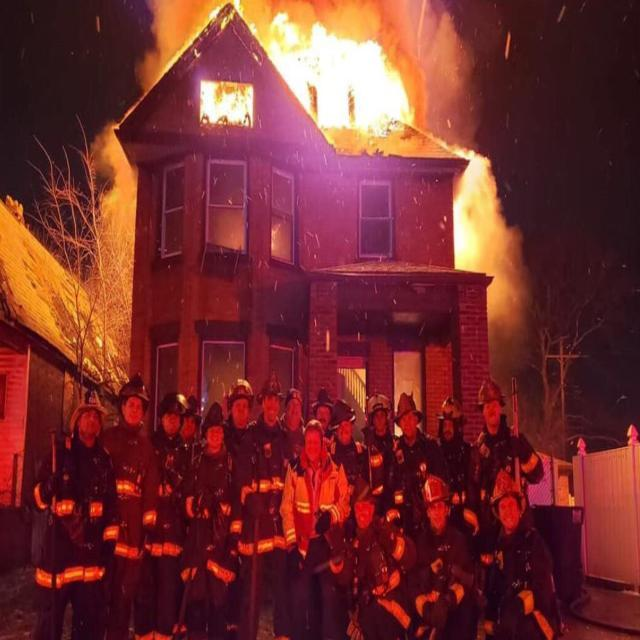Fire: (264, 10, 412, 136), (200, 80, 253, 126), (206, 0, 263, 38), (162, 25, 203, 75)
Smoke: (450, 149, 531, 364), (414, 0, 481, 149), (94, 121, 136, 238)
